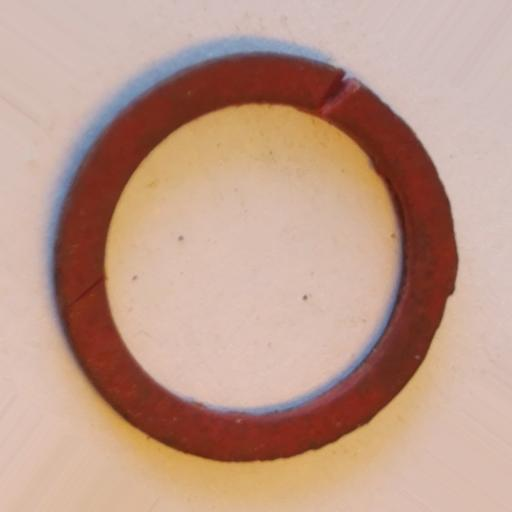defect: (319, 68, 360, 115), (64, 275, 105, 310)
